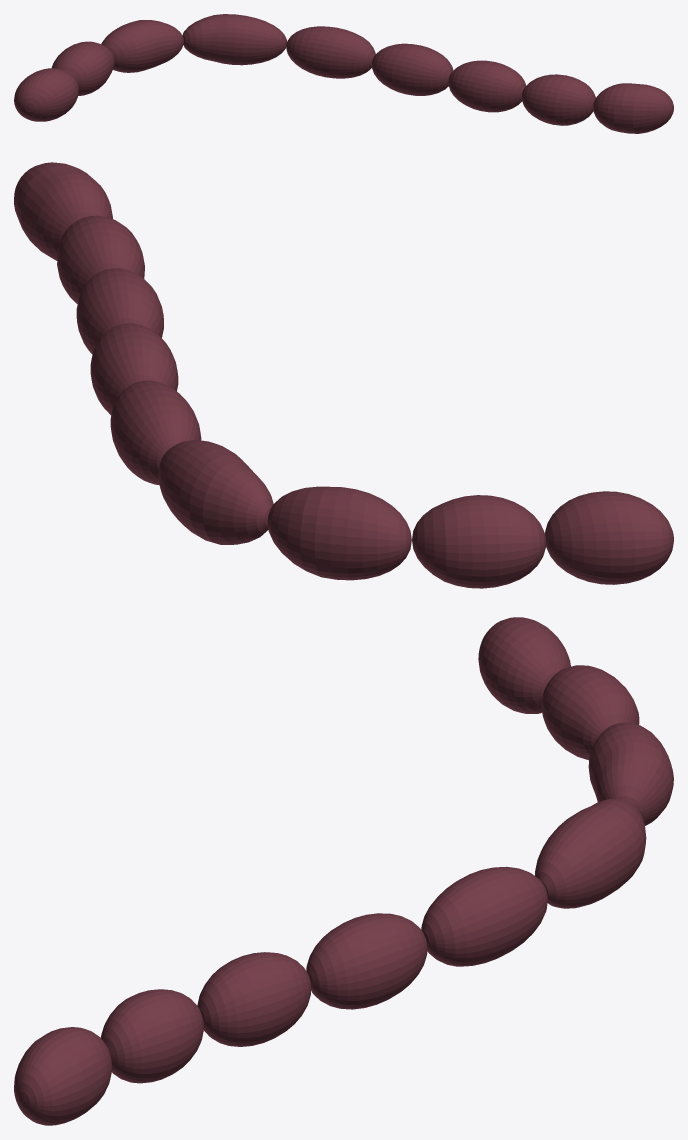
Rendered from Salsiccie.fbx.
The picture shows the model from 3 angles, top to bottom: view 1: azimuth 30°, elevation 25°; view 2: azimuth 150°, elevation 25°; view 3: azimuth 270°, elevation 25°; orthographic projection. The views are drawn at different scales.
Parts seen in each view (by area): view 1: Sausage.001; view 2: Sausage.001; view 3: Sausage.001.
Boxes of the visible parts, bbox=[...] form: Sausage.001: bbox=[14, 14, 673, 133]; Sausage.001: bbox=[14, 162, 673, 588]; Sausage.001: bbox=[14, 617, 673, 1125].
Bounding box in the file's own units: 118 × 15.43 × 77.09.
